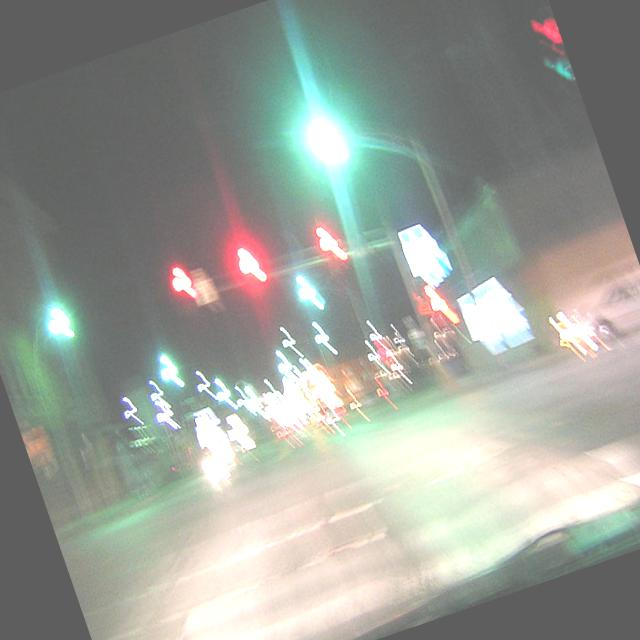Vehicle: (555, 273, 640, 359)
